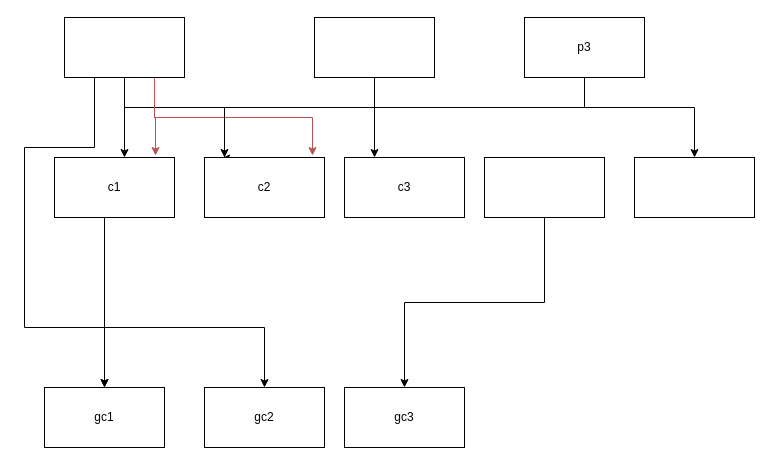
This 772x465 diagram has some shape labels left out. Here are the shapes that lost their labels. From the top down, the box of each, then its label:
(64, 16, 184, 78): p1
(314, 16, 434, 78): p2
(484, 156, 604, 218): c4
(634, 156, 754, 218): c5
